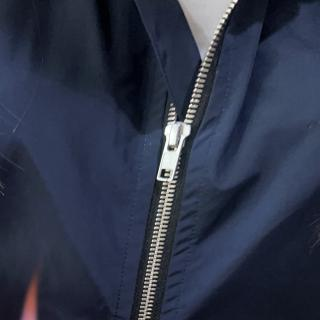fire: (18, 270, 38, 320)
